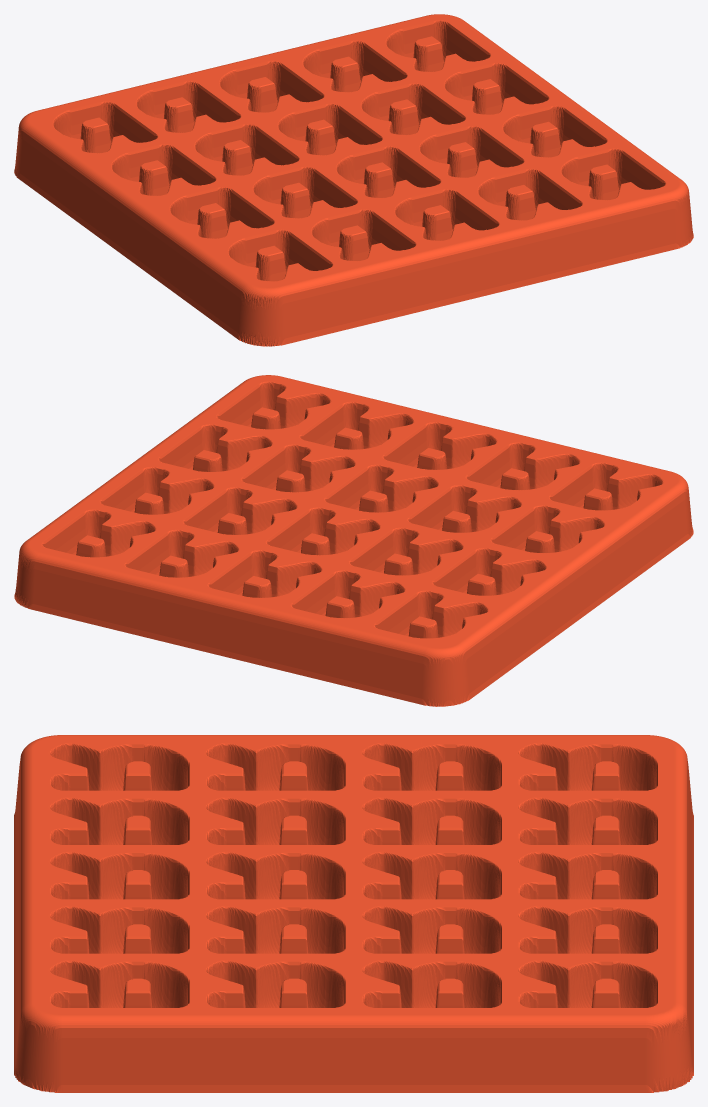
Rendered from mold.glb.
3 views of the same model, one above another, from view 1: azimuth 30°, elevation 25°; view 2: azimuth 150°, elevation 25°; view 3: azimuth 270°, elevation 25° (orthographic). The views are drawn at different scales.
Visible parts, largest first — view 1: geometry_0; view 2: geometry_0; view 3: geometry_0.
Part boxes in pixels (bbox=[...]): geometry_0: bbox=[14, 14, 693, 346]; geometry_0: bbox=[14, 375, 693, 706]; geometry_0: bbox=[14, 735, 693, 1092].
Size of the model in its own units: 0.1311 by 0.0145 by 0.1278.
